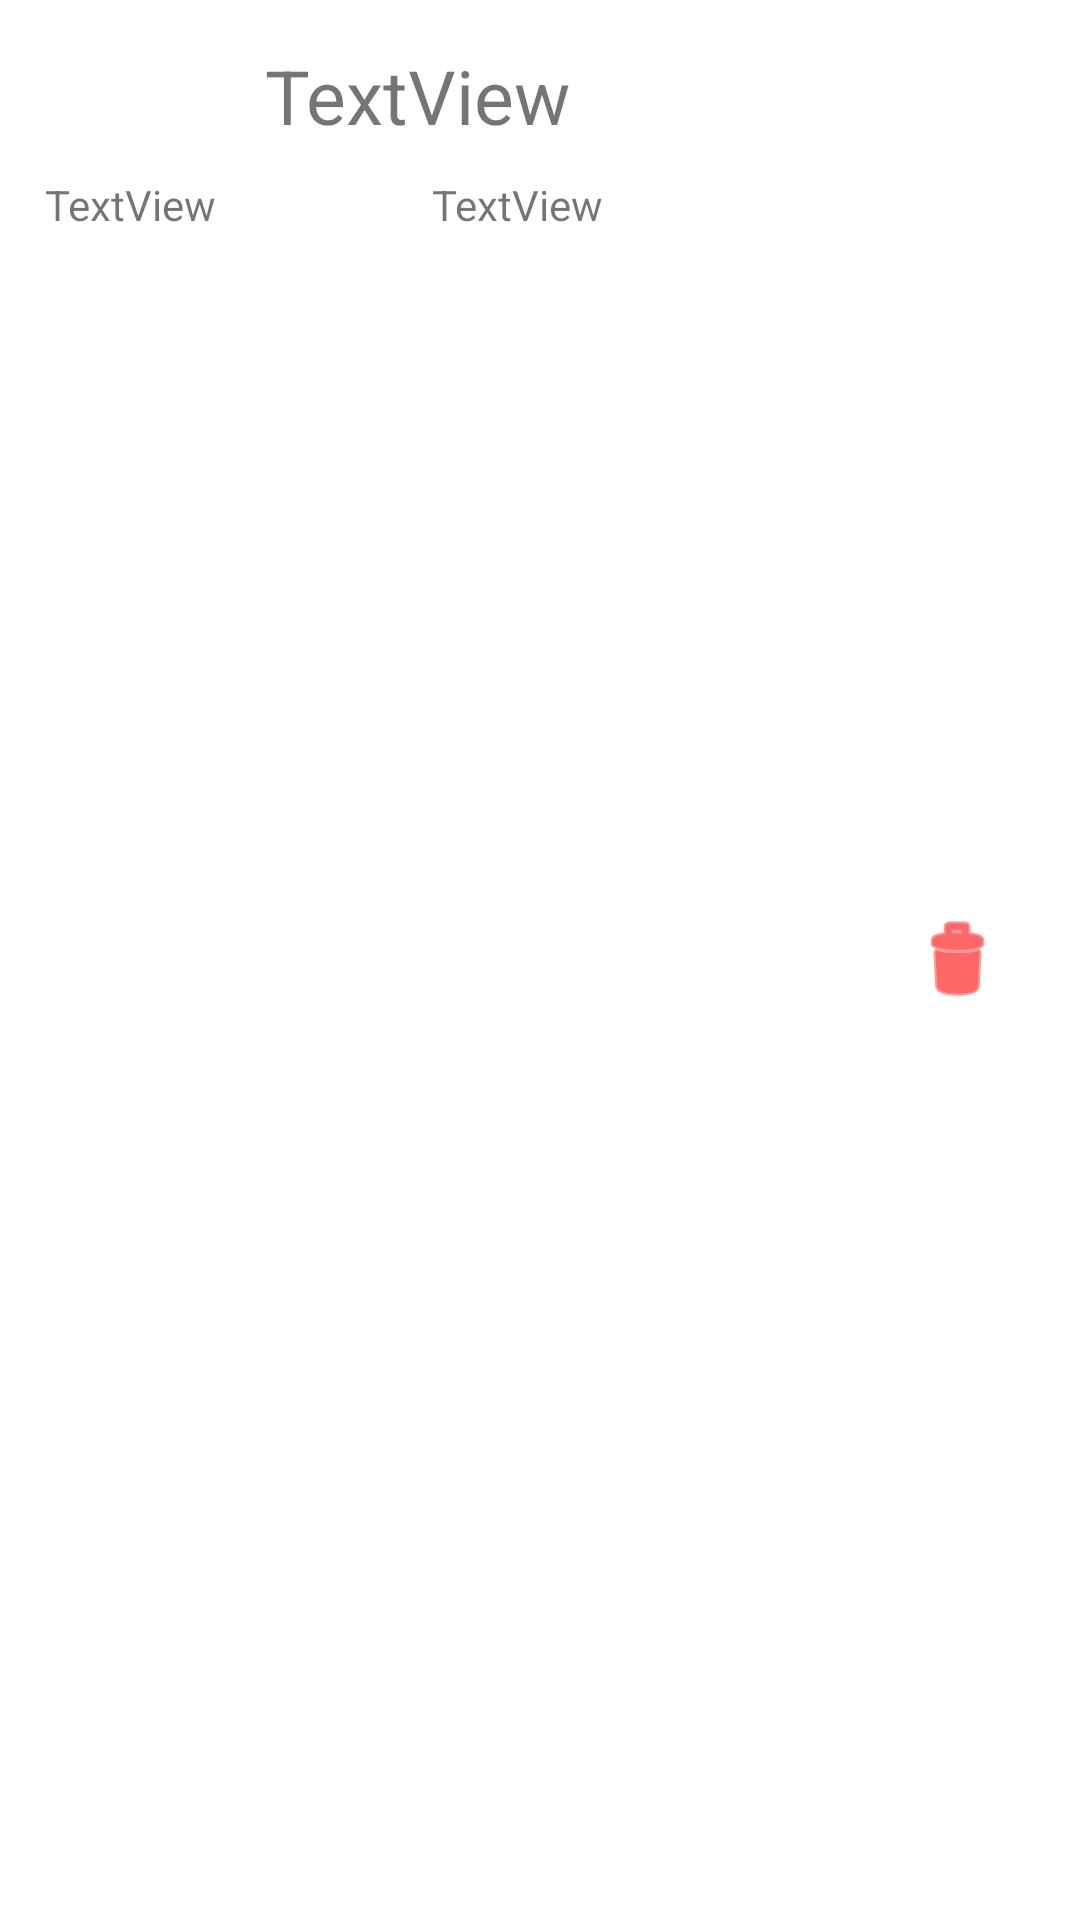

Point at icon controls on the screen. Image size 1080w x 1920h, points as [x,y].
delete: [957,958]
